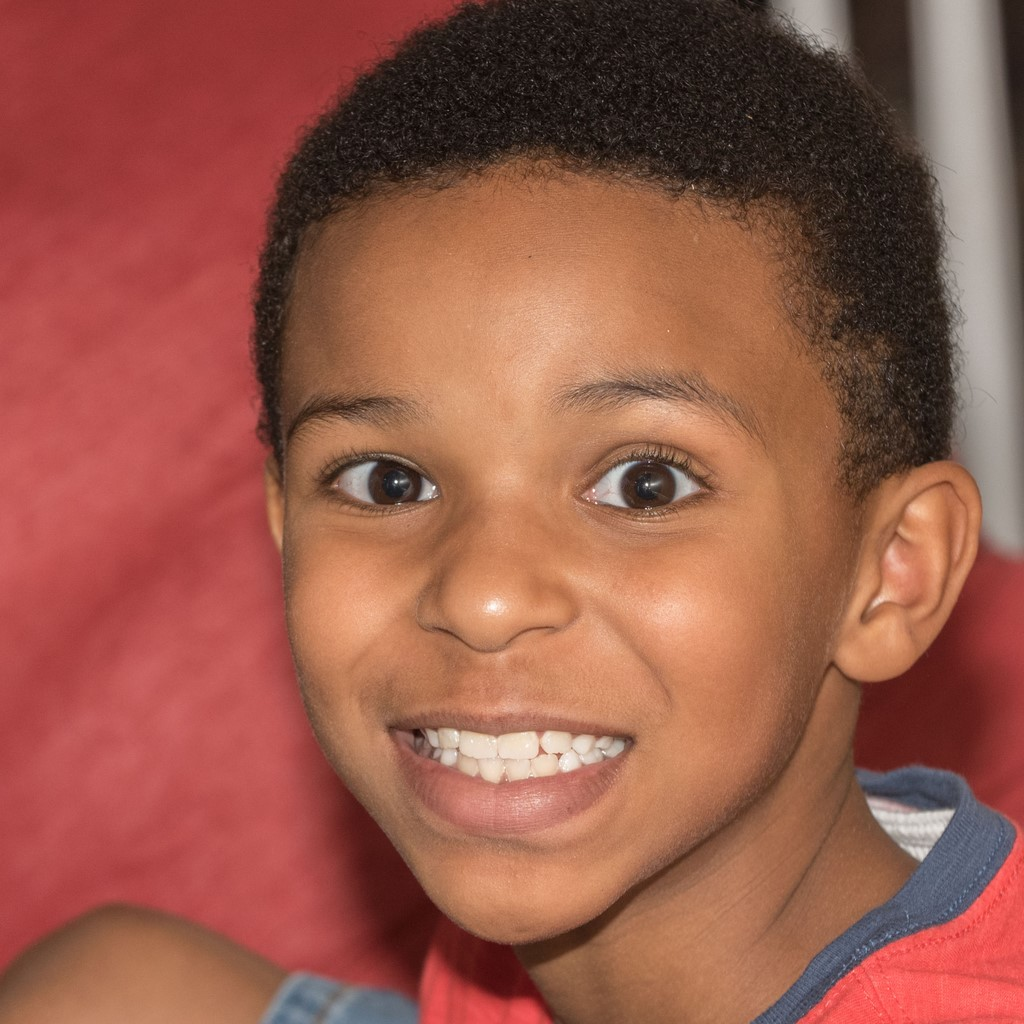sin_mascara: (262, 120, 872, 964)
